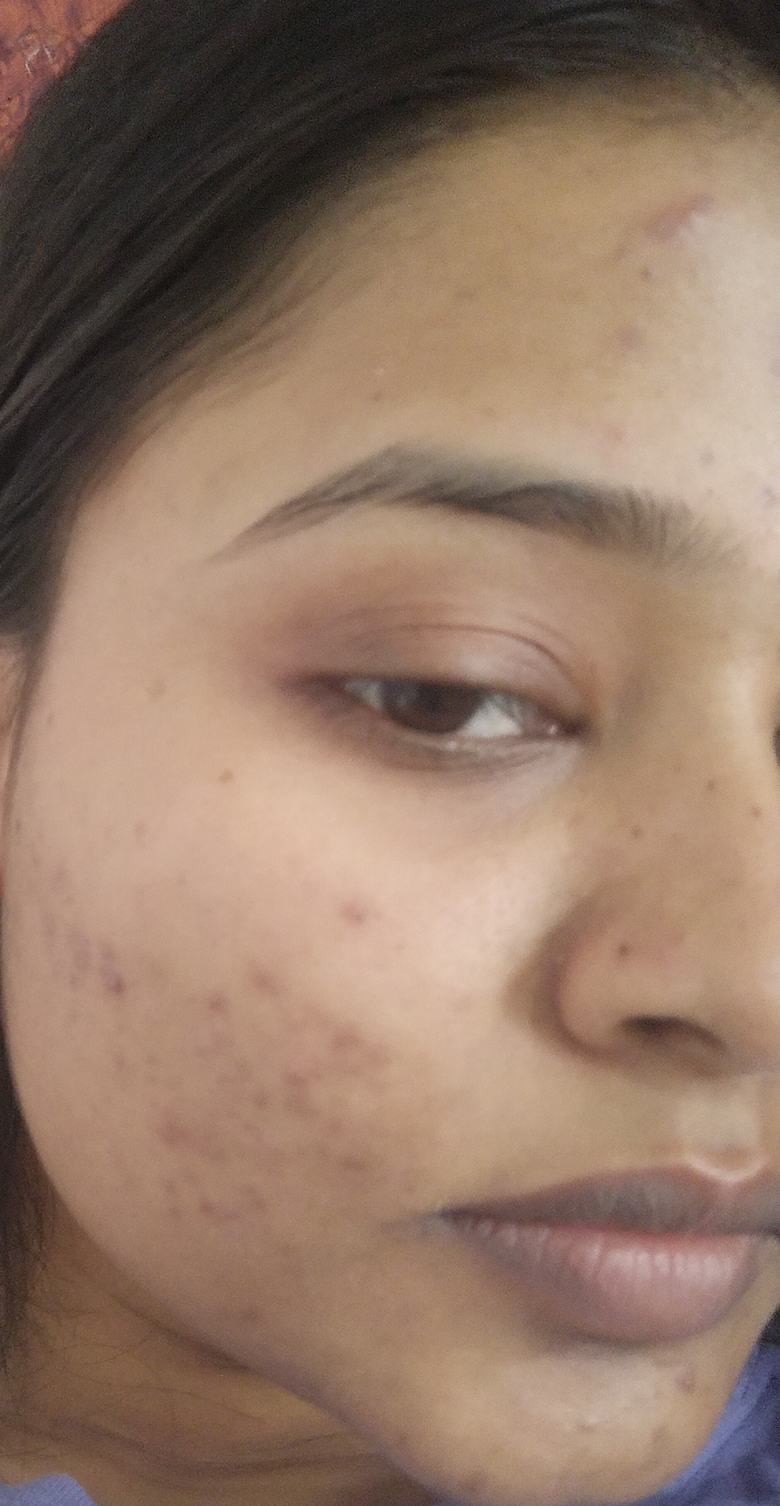papule: (646, 184, 740, 276), (323, 1006, 407, 1083), (92, 917, 154, 1016), (318, 857, 375, 957), (219, 952, 296, 1014)
